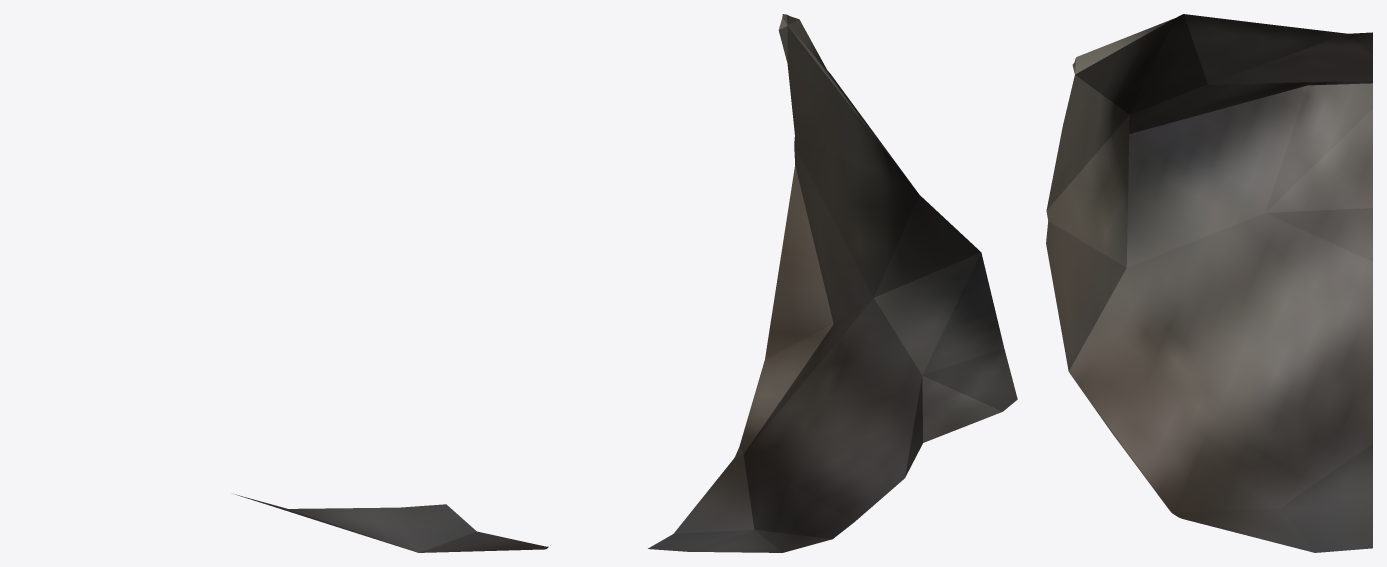
The picture shows the model from 3 angles, left to right: view 1: azimuth 30°, elevation 25°; view 2: azimuth 150°, elevation 25°; view 3: azimuth 270°, elevation 25°; orthographic projection. The views are drawn at different scales.
Size of the model in its own units: 0.1359 by 0.1541 by 0.094.
1 material, 1 textured.
